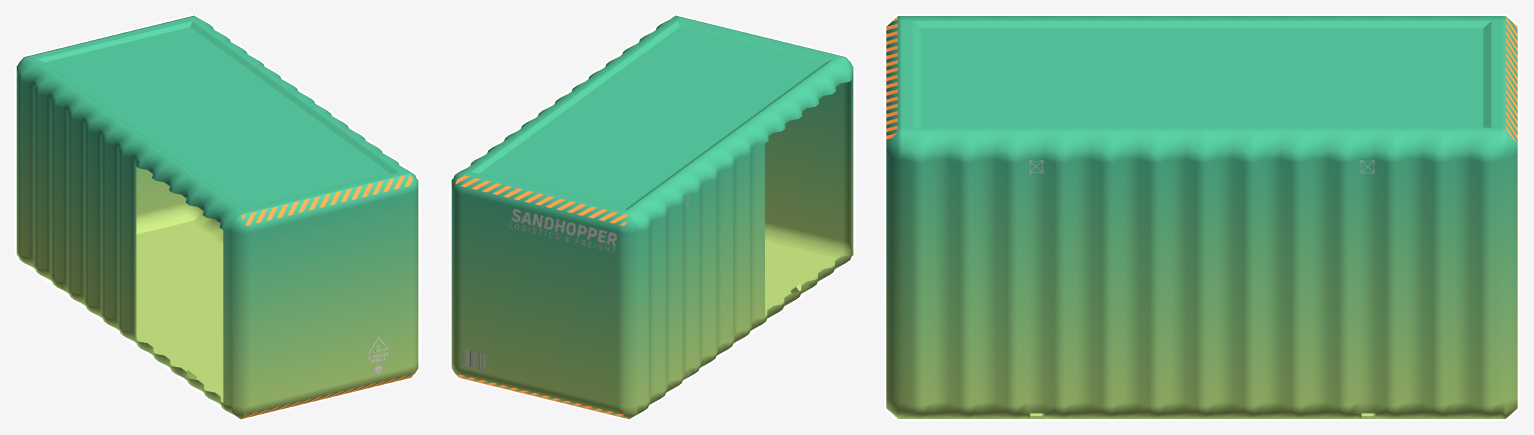
The model's file is cpmarket-available.glb.
3 views of the same model, side by side, from view 1: azimuth 30°, elevation 25°; view 2: azimuth 150°, elevation 25°; view 3: azimuth 270°, elevation 25° (orthographic). The views are drawn at different scales.
Parts seen in each view (by area): view 1: Market-module-type-A_exterior, Market-module-type-A_highlight; view 2: Market-module-type-A_exterior, Market-module-type-A_highlight; view 3: Market-module-type-A_exterior, Market-module-type-A_highlight.
Boxes of the visible parts, x1,y1,x2,y2 form: Market-module-type-A_exterior: (16, 15, 418, 419); Market-module-type-A_highlight: (14, 14, 420, 420); Market-module-type-A_exterior: (451, 15, 853, 419); Market-module-type-A_highlight: (449, 14, 855, 420); Market-module-type-A_exterior: (886, 16, 1517, 418); Market-module-type-A_highlight: (884, 14, 1519, 420).
Size of what is drawn, in the model's own units: 4.05 by 4.05 by 8.05.
4 materials, 3 textured.
